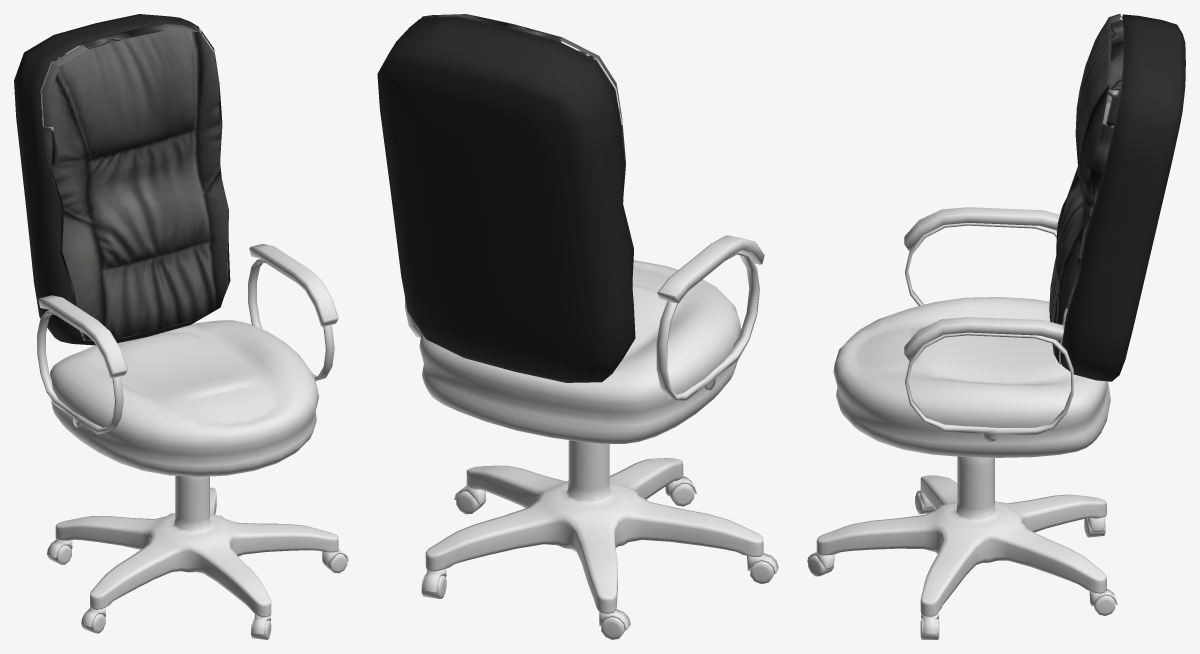
Rendered from ChairBlend.fbx.
3 views of the same model, side by side, from view 1: azimuth 30°, elevation 25°; view 2: azimuth 150°, elevation 25°; view 3: azimuth 270°, elevation 25° (orthographic). The views are drawn at different scales.
Parts seen in each view (by area): view 1: Куб, Окружность, Цилиндр, Окружность.004, Окружность.002, Окружность.001, Окружность.003, Цилиндр.002, Цилиндр.004; view 2: Куб, Окружность, Цилиндр, Окружность.001, Окружность.002, Цилиндр.004, Цилиндр.002, Цилиндр.001, Цилиндр.003, Цилиндр.005; view 3: Куб, Окружность, Цилиндр, Окружность.004, Окружность.002, Окружность.003, Окружность.001, Цилиндр.003.
Part boxes in pixels (<box>): Куб: <box>14,14,230,345</box>; Окружность: <box>50,320,318,476</box>; Цилиндр: <box>55,476,338,617</box>; Окружность.004: <box>249,244,338,326</box>; Окружность.002: <box>38,295,127,378</box>; Окружность.001: <box>37,310,123,434</box>; Окружность.003: <box>248,258,334,380</box>; Цилиндр.002: <box>46,539,72,564</box>; Цилиндр.004: <box>81,607,105,633</box>; Куб: <box>377,14,635,382</box>; Окружность: <box>419,260,741,443</box>; Цилиндр: <box>425,440,763,613</box>; Окружность.001: <box>656,251,759,400</box>; Окружность.002: <box>657,235,764,302</box>; Цилиндр.004: <box>747,553,778,584</box>; Цилиндр.002: <box>599,609,630,639</box>; Цилиндр.001: <box>454,485,485,514</box>; Цилиндр.003: <box>421,569,446,598</box>; Цилиндр.005: <box>665,476,696,506</box>; Куб: <box>1049,14,1185,381</box>; Окружность: <box>833,297,1110,457</box>; Цилиндр: <box>816,456,1106,616</box>; Окружность.004: <box>904,317,1063,360</box>; Окружность.002: <box>904,207,1059,250</box>; Окружность.003: <box>905,332,1073,441</box>; Окружность.001: <box>905,223,1056,305</box>; Цилиндр.003: <box>1089,589,1117,615</box>.
Bounding box in the file's own units: 123 × 222 × 143.
3 materials, 1 textured.
